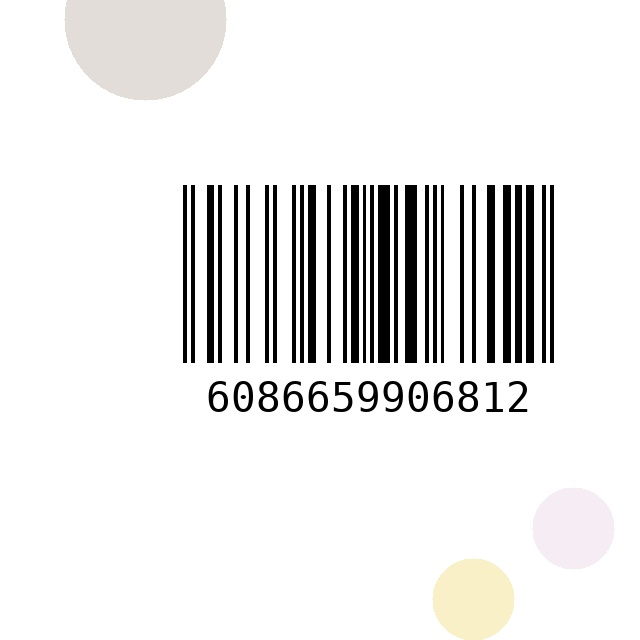barcode: (107, 174, 630, 454)
